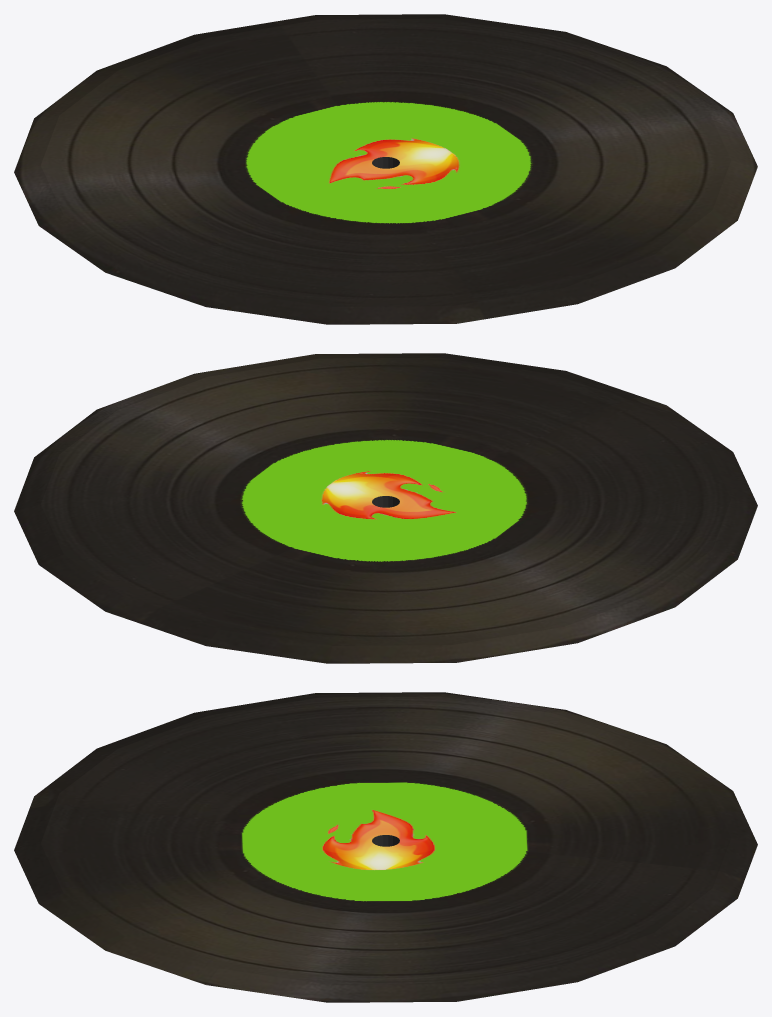
File: Vinyl_Fire.FBX
3 renders of one model, top to bottom at view 1: azimuth 30°, elevation 25°; view 2: azimuth 150°, elevation 25°; view 3: azimuth 270°, elevation 25°, orthographic.
Parts seen in each view (by area): view 1: Cylinder009; view 2: Cylinder009; view 3: Cylinder009.
Boxes of the visible parts, x1,y1,x2,y2 form: Cylinder009: [14, 14, 757, 324]; Cylinder009: [14, 353, 757, 663]; Cylinder009: [14, 692, 757, 1002].
Size of the model in its own units: 27.07 by 0.5018 by 27.4.
Materials: 1 (1 with a texture image).
